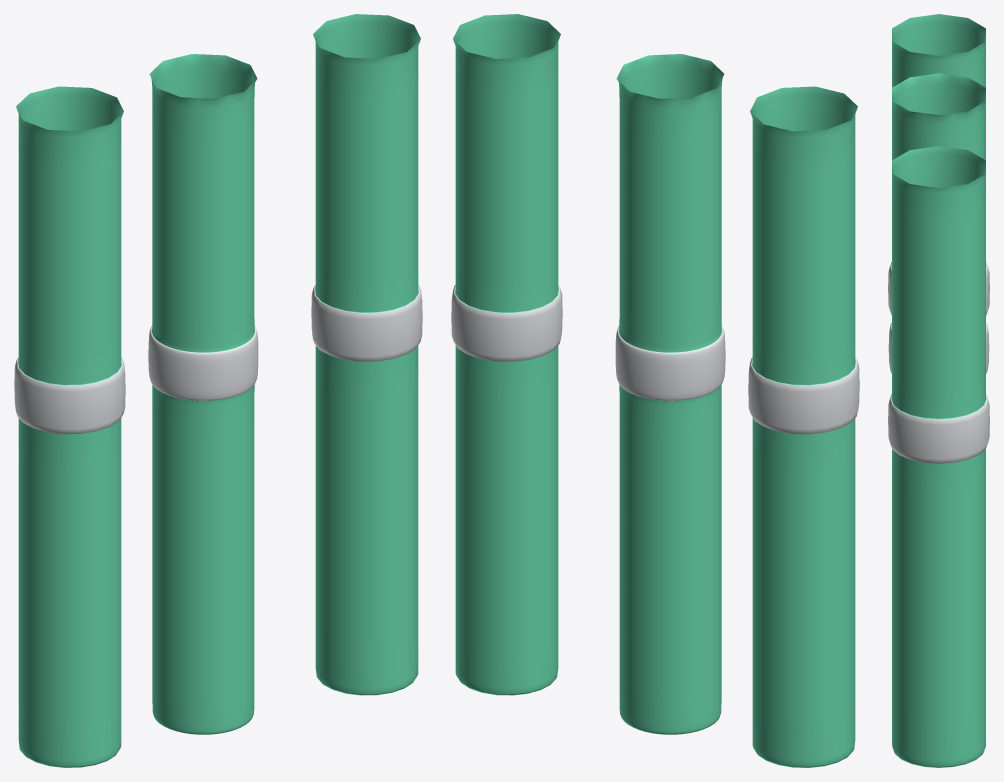
Rendered from long_tubes.fbx.
3 renders of one model, left to right at view 1: azimuth 30°, elevation 25°; view 2: azimuth 150°, elevation 25°; view 3: azimuth 270°, elevation 25°, orthographic. The views are drawn at different scales.
Visible parts, largest first — view 1: long_tube2, long_tube, long_tube1; view 2: long_tube2, long_tube, long_tube1; view 3: long_tube2, long_tube1, long_tube.
Boxes of the visible parts, bbox=[...] form: long_tube2: bbox=[311, 14, 422, 695]; long_tube: bbox=[14, 86, 125, 767]; long_tube1: bbox=[148, 54, 258, 734]; long_tube2: bbox=[451, 14, 562, 695]; long_tube: bbox=[748, 86, 859, 767]; long_tube1: bbox=[615, 54, 725, 734]; long_tube2: bbox=[888, 146, 989, 767]; long_tube1: bbox=[888, 73, 989, 373]; long_tube: bbox=[888, 14, 989, 315].
Bounding box in the file's own units: 1.96 × 3.03 × 0.482.
